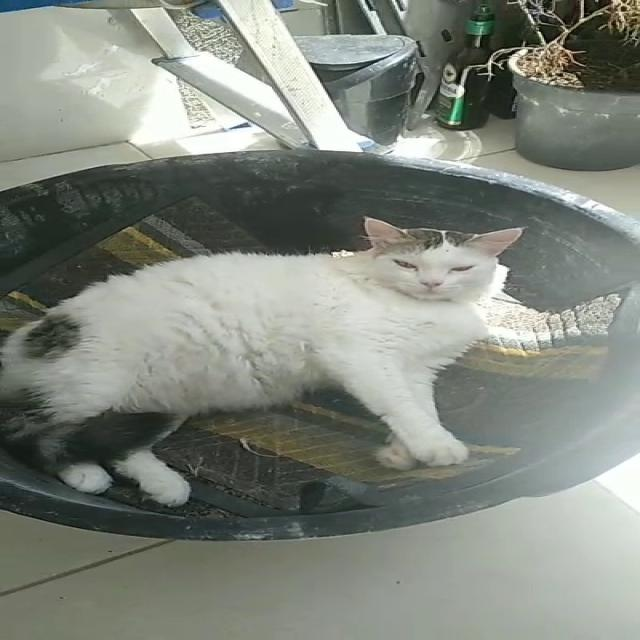Simba: (0, 203, 584, 510)
